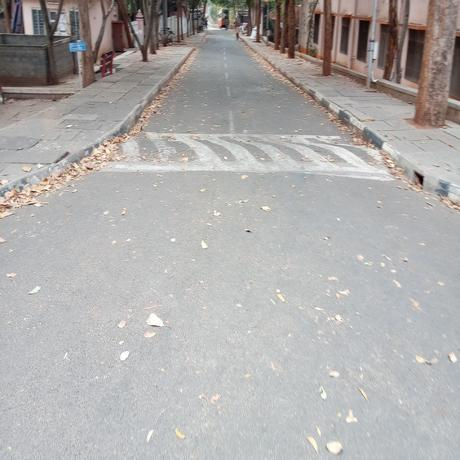Speed Bump: (109, 133, 389, 177)
